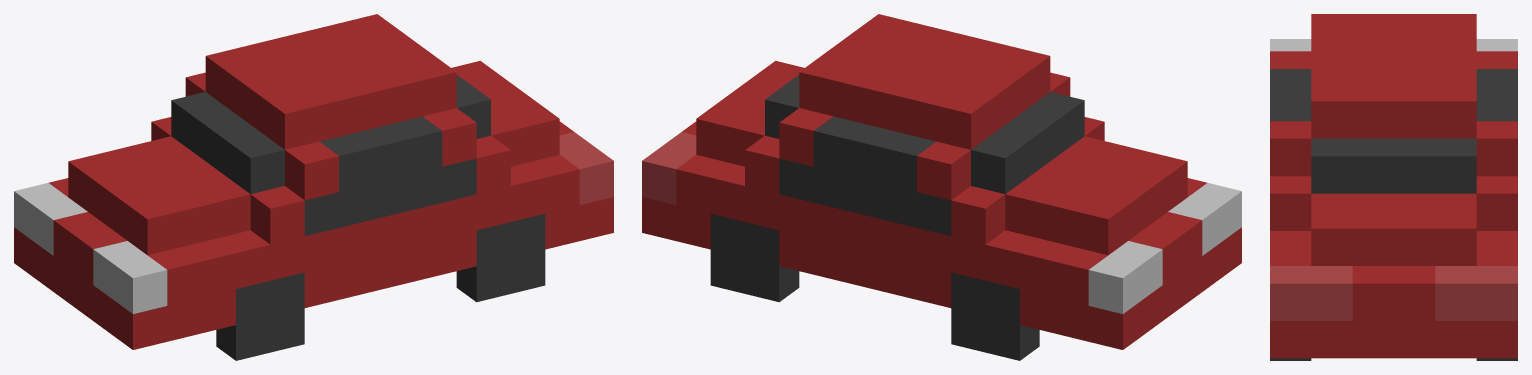
File: car-v6-red.gltf
3 renders of one model, left to right at view 1: azimuth 30°, elevation 25°; view 2: azimuth 150°, elevation 25°; view 3: azimuth 270°, elevation 25°, orthographic. The views are drawn at different scales.
Parts seen in each view (by area): view 1: model, wheels; view 2: model, wheels; view 3: model, wheels.
Part boxes in pixels (x1,y1,x2,y2): model: (14, 14, 613, 349); wheels: (216, 214, 545, 360); model: (642, 14, 1241, 349); wheels: (710, 214, 1039, 360); model: (1270, 14, 1517, 358); wheels: (1270, 358, 1517, 360).
Size of the model in its own units: 1.4 by 0.6 by 0.6.
2 materials, 2 textured.
